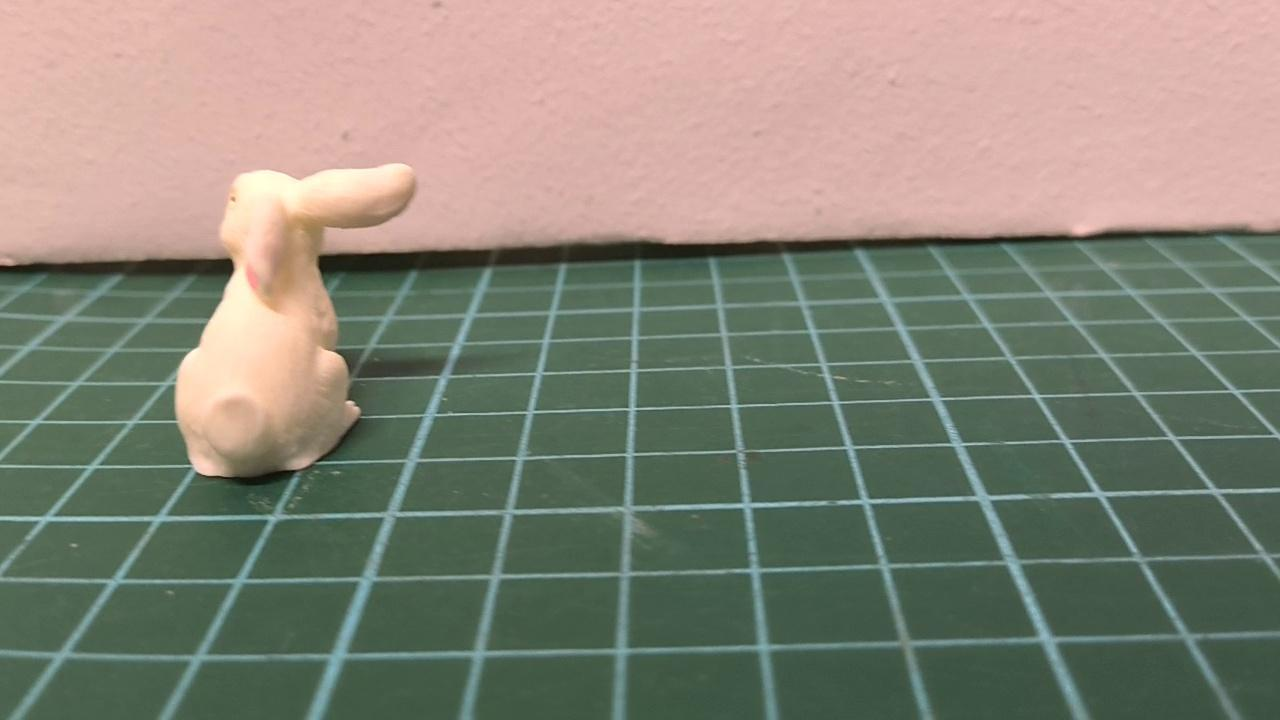pet: (173, 162, 416, 479)
